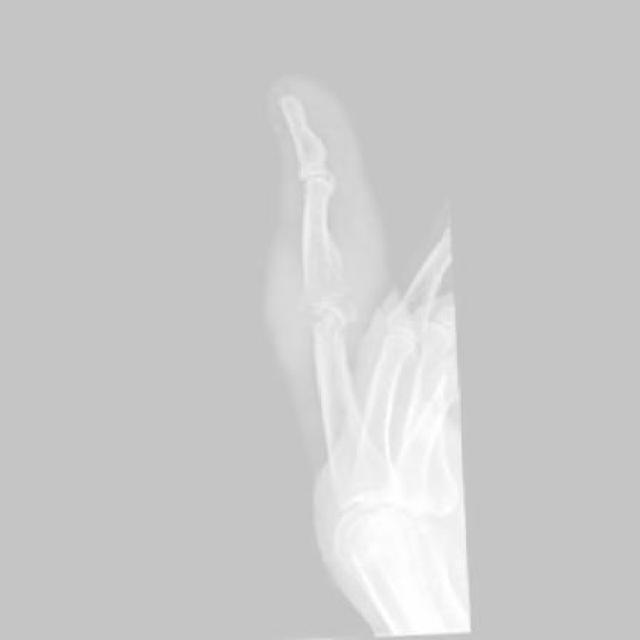Fracture: (294, 228, 356, 322)
